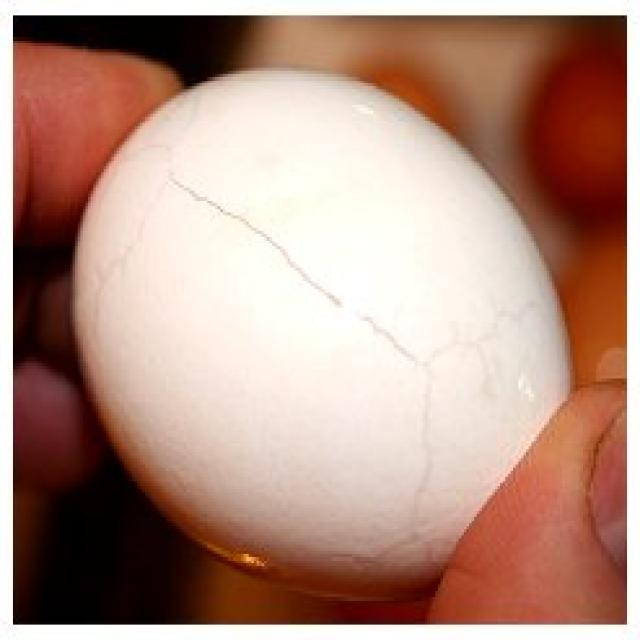Crack: (144, 130, 535, 410)
Egg: (82, 52, 574, 595)
